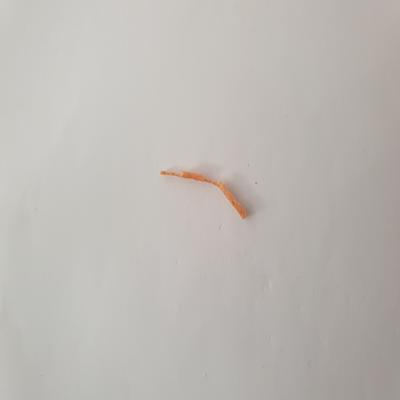thread: (155, 162, 255, 223)
